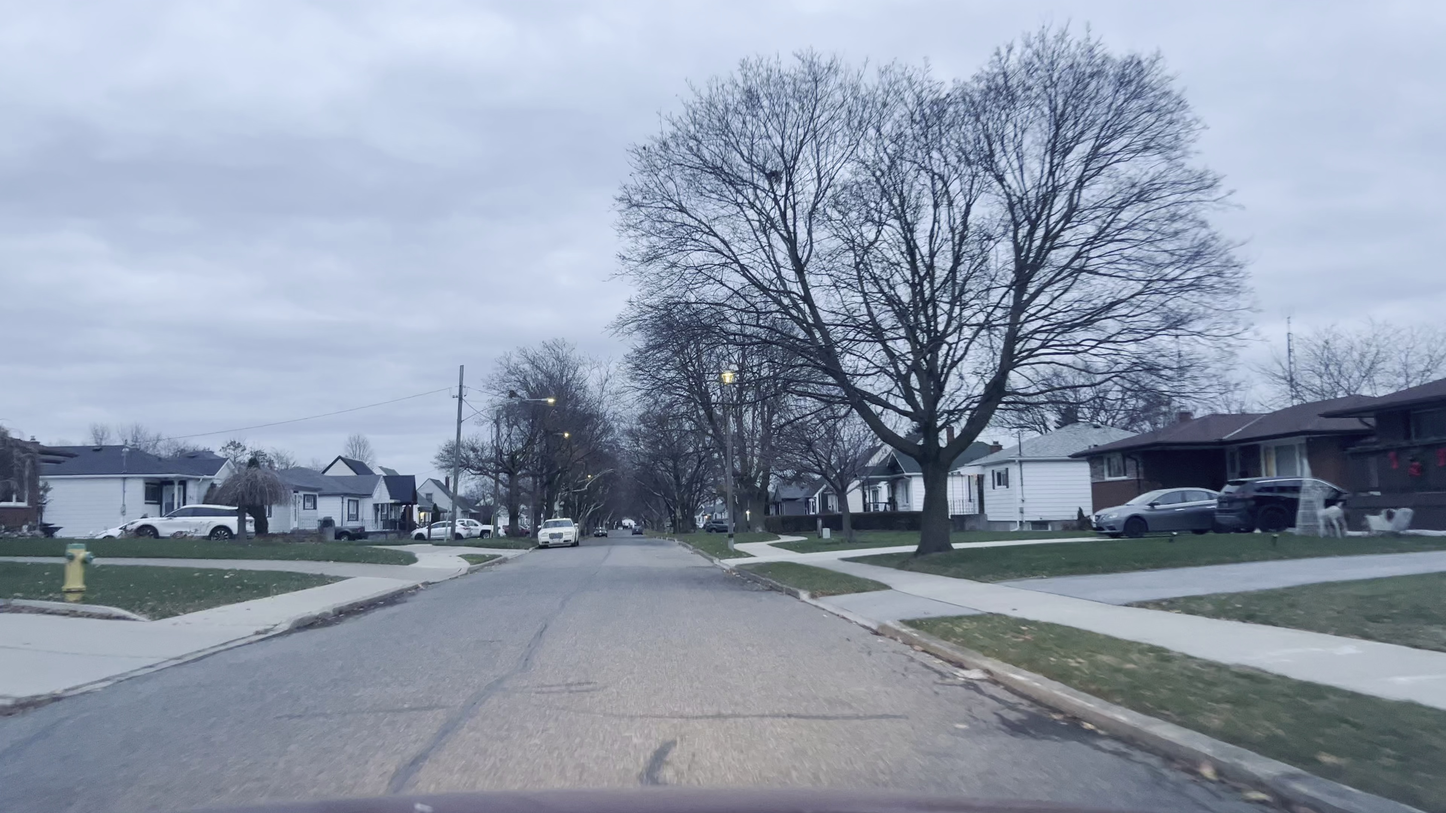cracks: (396, 595, 558, 791), (641, 733, 685, 784)
flooding: (972, 687, 1099, 749)
